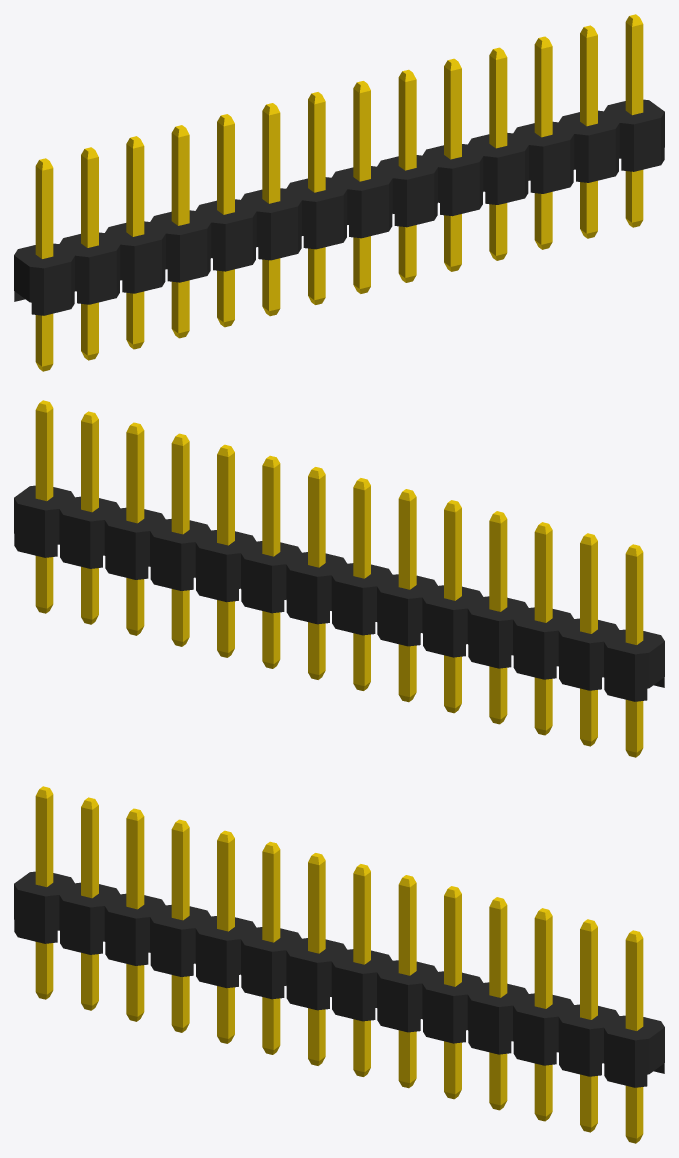
Rendered from PLS2-14.glb.
The picture shows the model from 3 angles, top to bottom: view 1: azimuth 30°, elevation 25°; view 2: azimuth 150°, elevation 25°; view 3: azimuth 330°, elevation 25°; orthographic projection.
Parts seen in each view (by area): view 1: PLS2 (DS1025-01 CONNFLY); view 2: PLS2 (DS1025-01 CONNFLY); view 3: PLS2 (DS1025-01 CONNFLY).
Part boxes in pixels (bbox=[...]): PLS2 (DS1025-01 CONNFLY): bbox=[14, 14, 664, 371]; PLS2 (DS1025-01 CONNFLY): bbox=[14, 400, 664, 757]; PLS2 (DS1025-01 CONNFLY): bbox=[14, 786, 664, 1143].
Size of the model in its own units: 0.028 by 0.0088 by 0.002.
